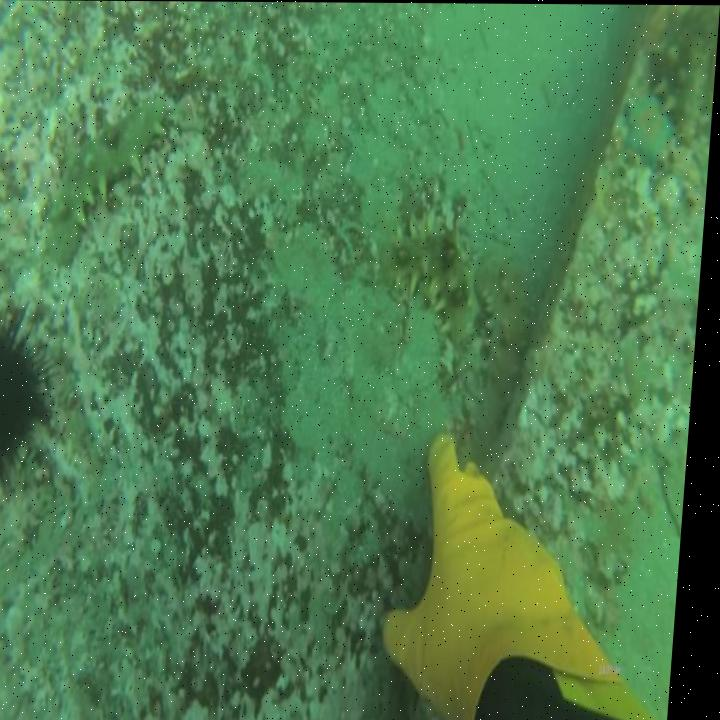echinus: (0, 290, 73, 504)
holothurian: (38, 86, 172, 277), (379, 200, 486, 355), (472, 263, 544, 411), (670, 41, 718, 154)
starfish: (621, 85, 680, 174)
